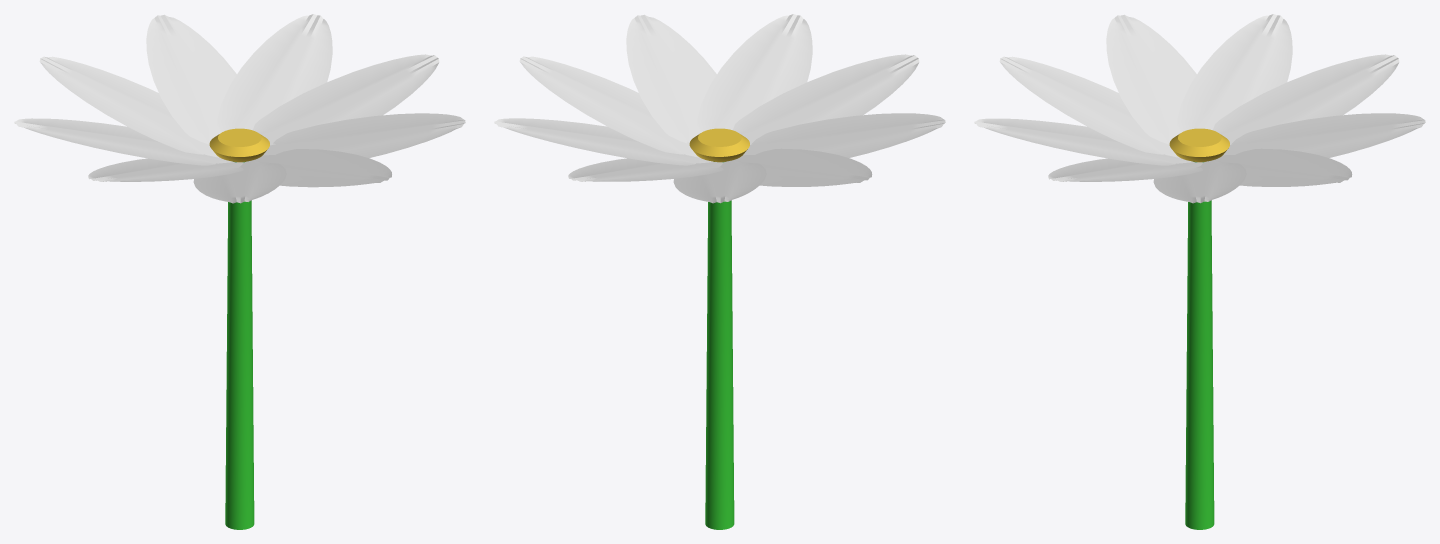
The model's file is flower.fbx.
3 views of the same model, side by side, from view 1: azimuth 30°, elevation 25°; view 2: azimuth 150°, elevation 25°; view 3: azimuth 270°, elevation 25° (orthographic).
Visible parts, largest first — view 1: Circle; view 2: Circle; view 3: Circle.
Part boxes in pixels (box(x1,y1,x2,y2)): Circle: box(14, 14, 465, 529); Circle: box(494, 14, 945, 529); Circle: box(974, 14, 1425, 529).
Size of the model in its own units: 0.3609 by 0.366 by 0.3747.
